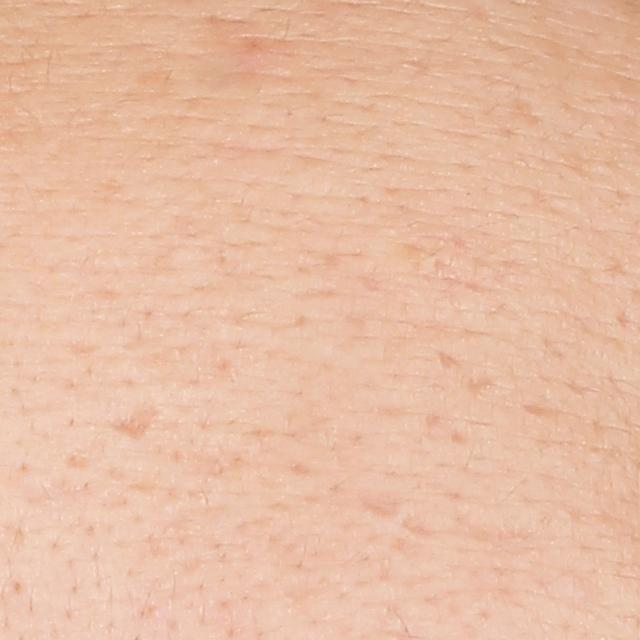atrophic_scar: (351, 488, 416, 518), (108, 408, 160, 441), (401, 513, 438, 539), (461, 371, 502, 391), (516, 95, 542, 126), (439, 348, 464, 372)
